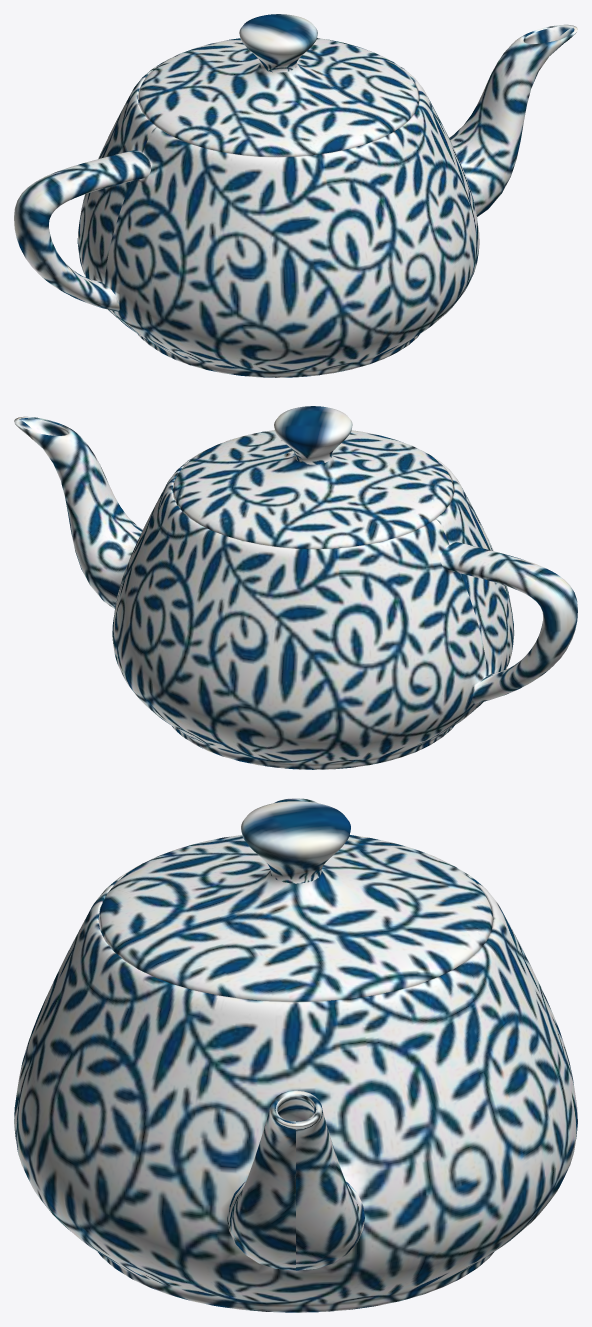
Rendered from teapot.obj.
3 renders of one model, top to bottom at view 1: azimuth 30°, elevation 25°; view 2: azimuth 150°, elevation 25°; view 3: azimuth 270°, elevation 25°, orthographic. The views are drawn at different scales.
Bounding box in the file's own units: 154 × 79.01 × 95.86.
1 material, 1 textured.
